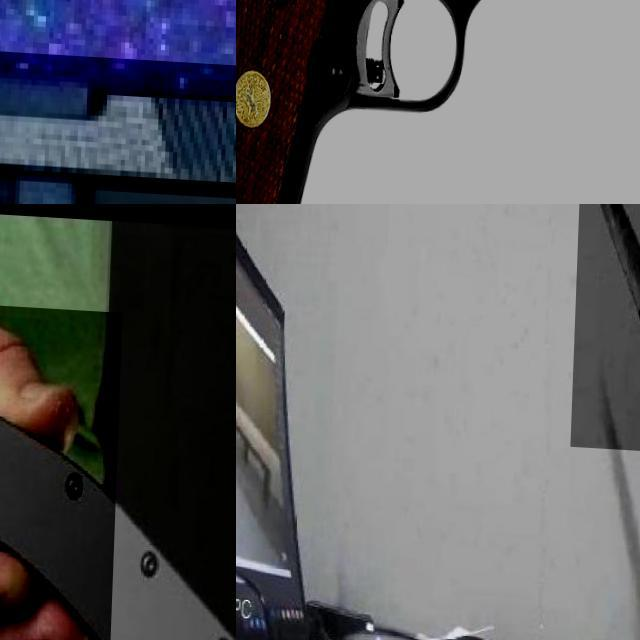-: (0, 286, 226, 640), (573, 204, 640, 449)
gun-knife-thesis - v11 Yolov5 augmented: (236, 0, 640, 204), (0, 40, 236, 204)
